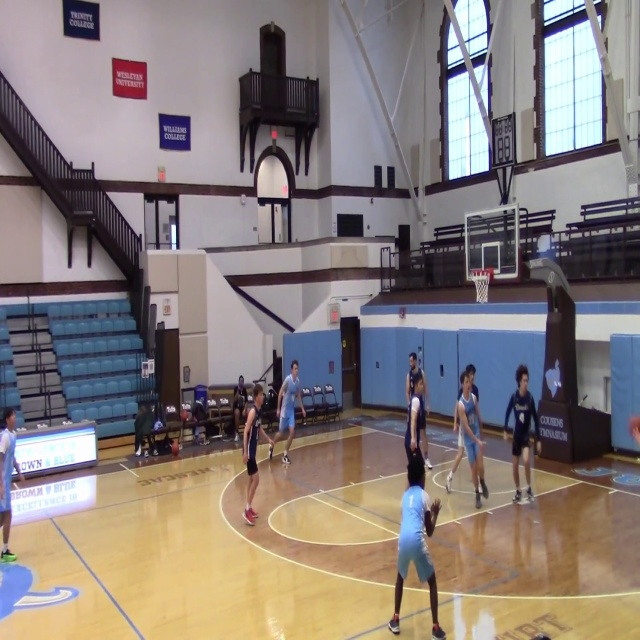Basketball: (629, 416, 640, 443), (179, 410, 189, 421), (171, 442, 179, 455)
